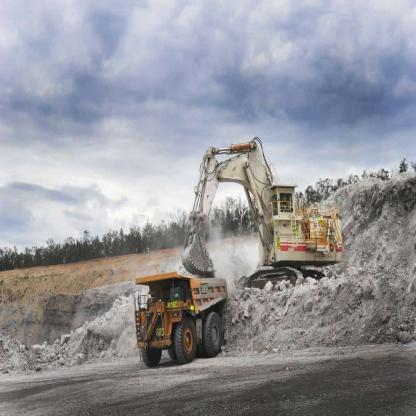dump_truck: (129, 262, 232, 364)
excavator: (182, 130, 343, 292)
